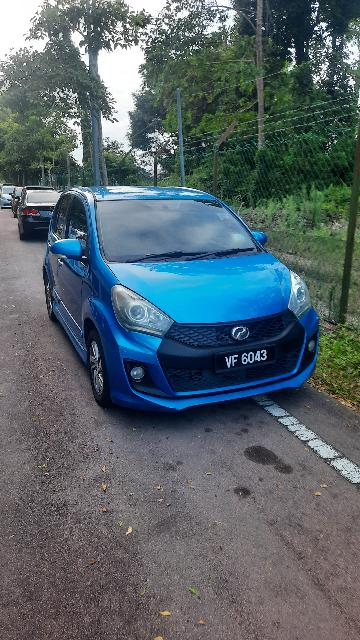License_Plate: (203, 345, 287, 377)
car: (46, 186, 325, 415)
